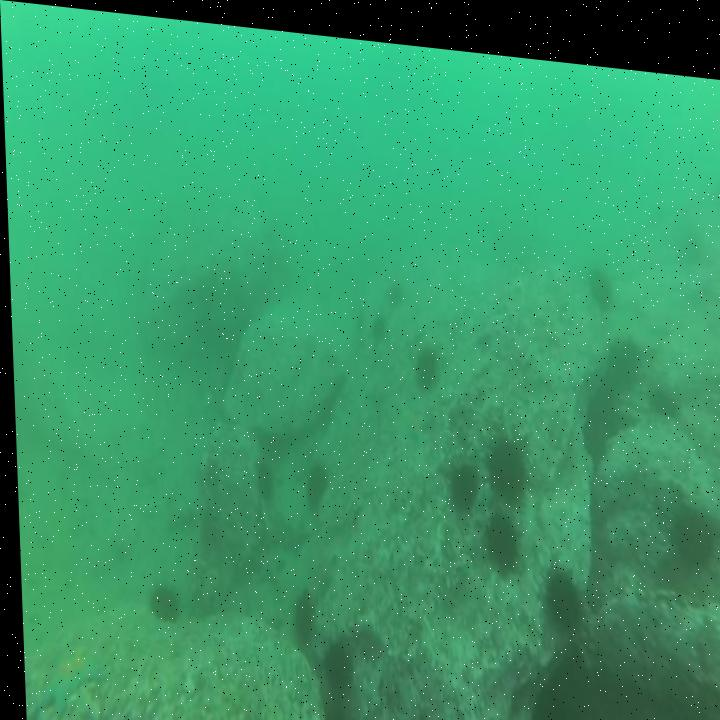echinus: (484, 431, 524, 491), (674, 493, 712, 554), (540, 558, 578, 616), (484, 505, 512, 564), (606, 315, 633, 375), (288, 584, 311, 641), (444, 454, 472, 497), (145, 582, 175, 622), (303, 452, 325, 498), (320, 636, 341, 684), (410, 337, 432, 380), (591, 254, 611, 289), (254, 453, 271, 492), (386, 271, 401, 297), (368, 307, 382, 333)
starfish: (34, 647, 96, 714)
